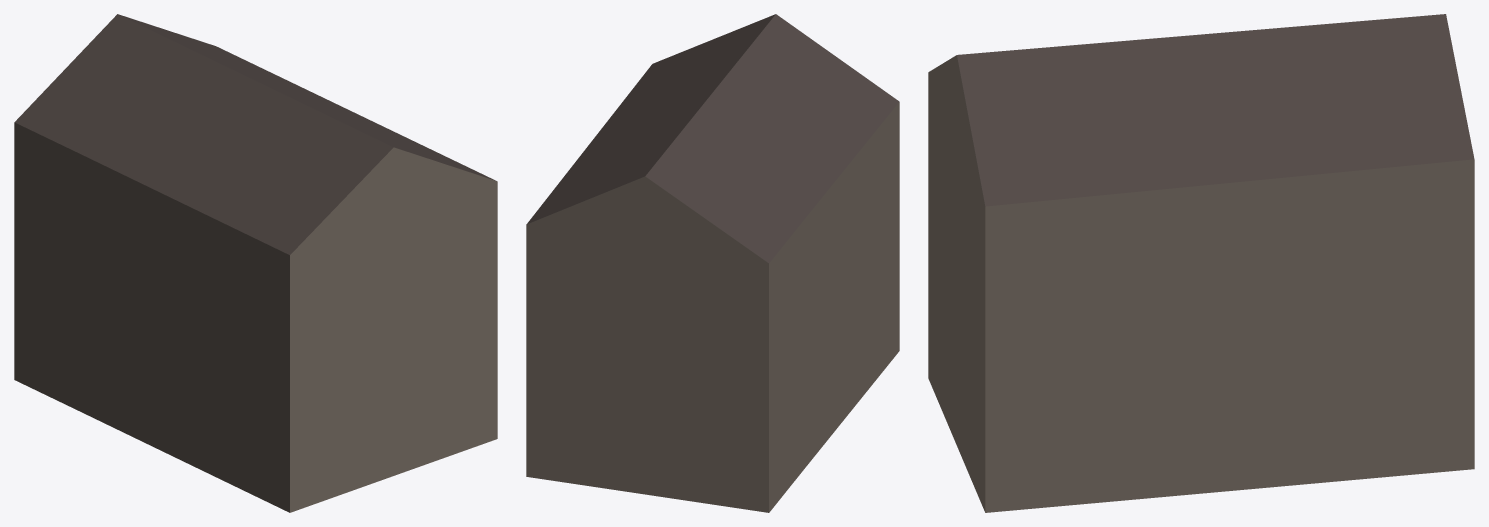
3 renders of one model, left to right at view 1: azimuth 30°, elevation 25°; view 2: azimuth 150°, elevation 25°; view 3: azimuth 270°, elevation 25°, orthographic. The views are drawn at different scales.
Visible parts, largest first — view 1: HP-w1198843244; view 2: HP-w1198843244; view 3: HP-w1198843244.
Boxes of the visible parts, left/top/right/bottom form: HP-w1198843244: left=14, top=14, right=497, bottom=512; HP-w1198843244: left=526, top=14, right=899, bottom=512; HP-w1198843244: left=928, top=14, right=1474, bottom=512.
Bounding box in the file's own units: 7.36 × 7.65 × 9.69.
